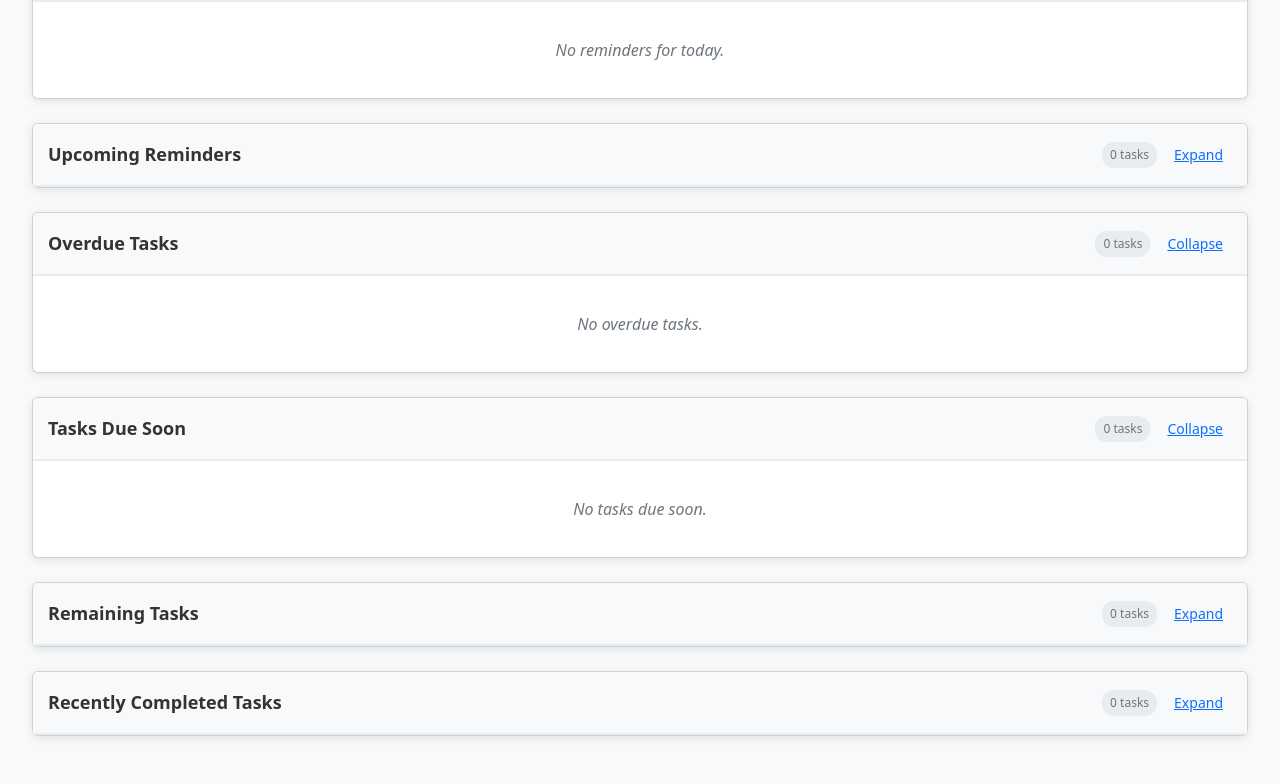
Scenario: Default collapsed sections expand as expected.
The image size is (1280, 784).
(page scrolled)
expect the text "no remaining tasks" is not shown: met
// Expand the Remaining Tasks section.
Click the button "Expand" in the row of "Remaining Tasks" at [1199, 614], box [1165,598,1232,629]
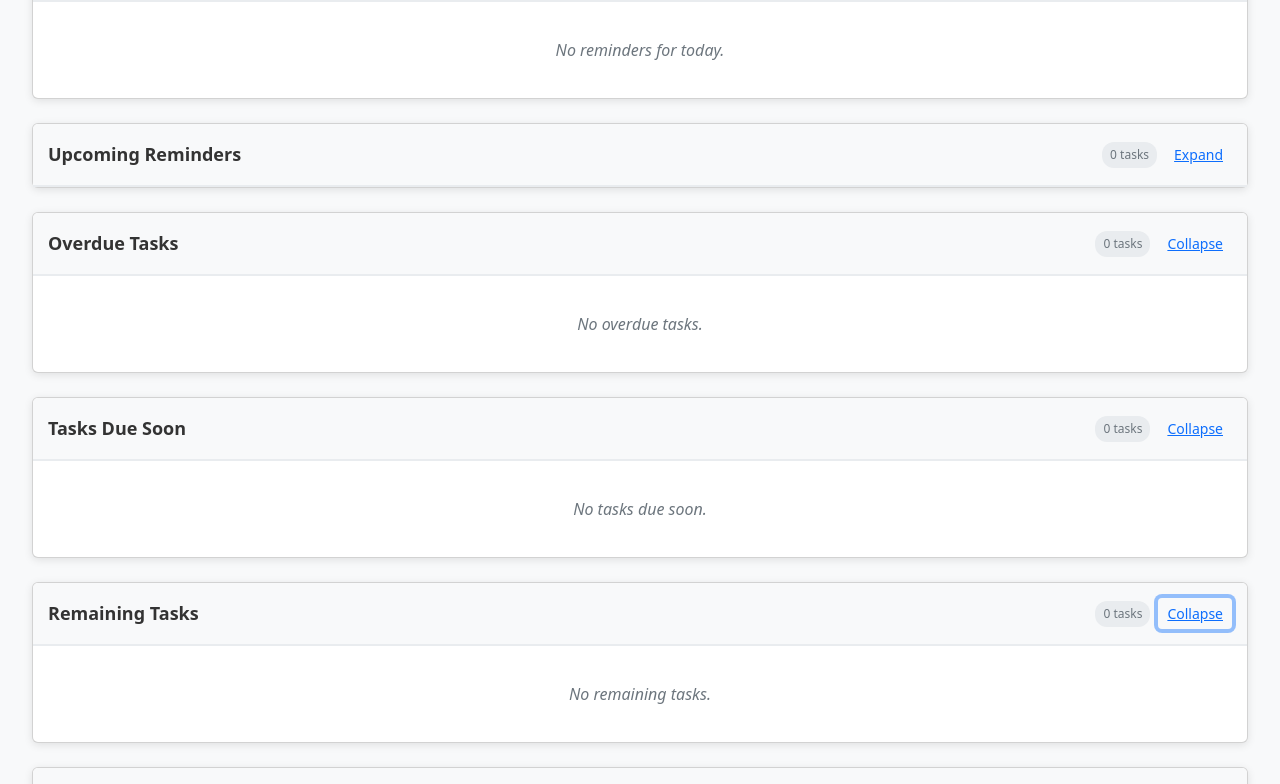
expect the text "No remaining tasks." is shown: met, box [569,683,711,705]
